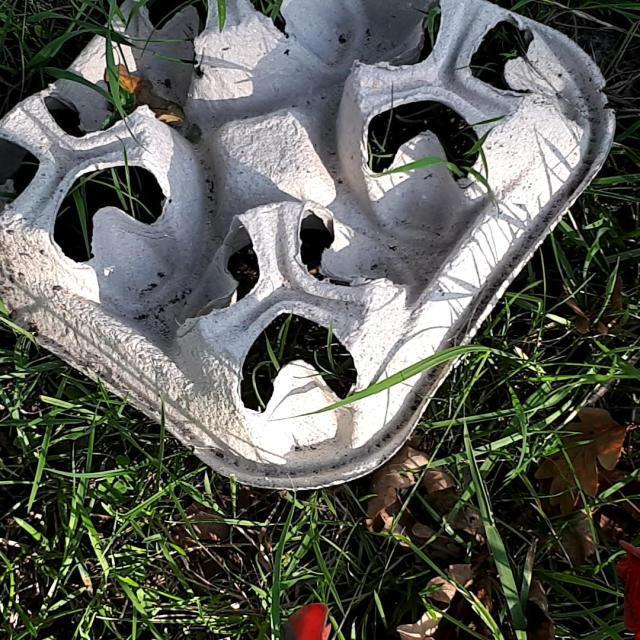Paper: (3, 0, 619, 496)
